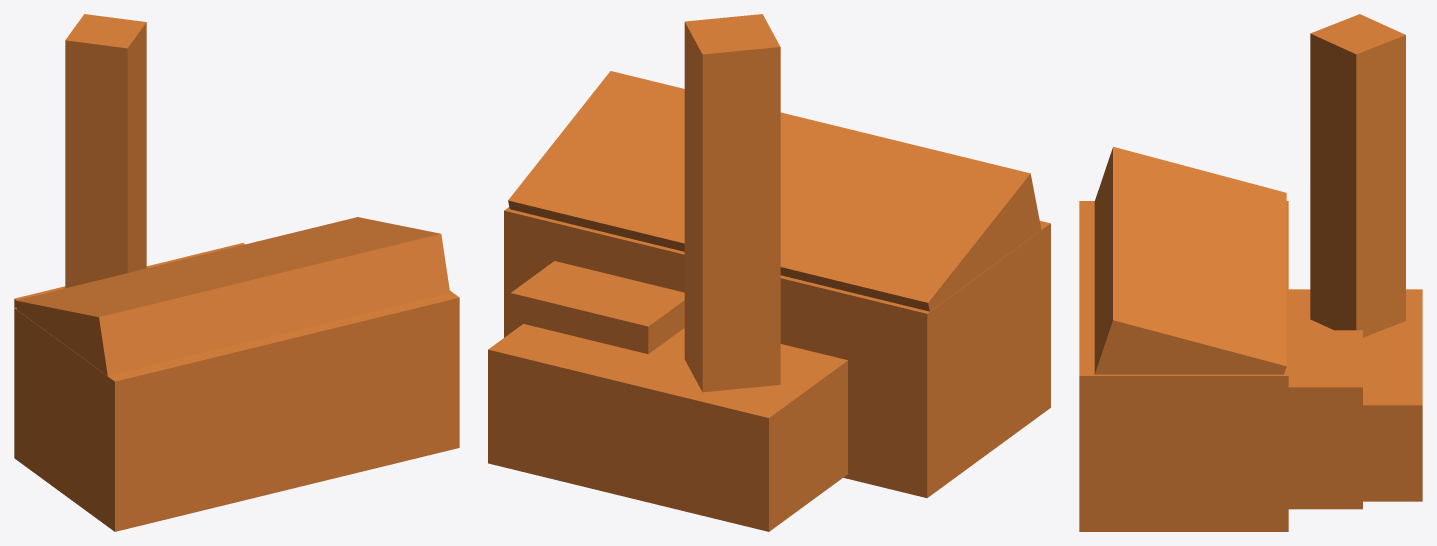
File: factory.fbx
3 views of the same model, side by side, from view 1: azimuth 30°, elevation 25°; view 2: azimuth 150°, elevation 25°; view 3: azimuth 270°, elevation 25° (orthographic). The views are drawn at different scales.
Parts seen in each view (by area): view 1: Cube; view 2: Cube; view 3: Cube.
Boxes of the visible parts, x1,y1,x2,y2 form: Cube: [14, 14, 459, 531]; Cube: [488, 14, 1050, 531]; Cube: [1079, 14, 1422, 531].
Bounding box in the file's own units: 1554 × 1602 × 1289.
